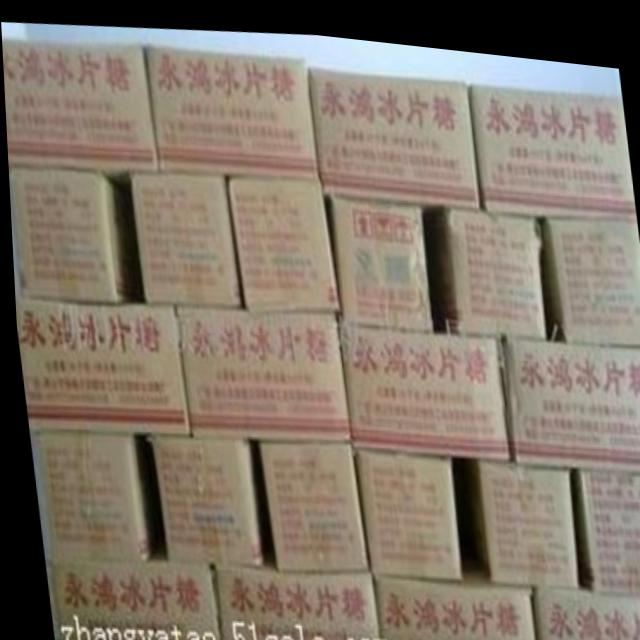box: (307, 61, 478, 198), (144, 41, 318, 175), (334, 315, 505, 450), (467, 71, 635, 208), (172, 301, 346, 432), (12, 300, 187, 430), (2, 37, 157, 167), (495, 324, 640, 457), (7, 165, 124, 302), (33, 429, 146, 561), (128, 168, 238, 302), (226, 171, 336, 304), (433, 196, 543, 329), (45, 554, 215, 640), (145, 431, 256, 559), (256, 431, 362, 565), (351, 438, 457, 571), (210, 556, 374, 640), (466, 448, 572, 576), (328, 188, 430, 320), (369, 560, 530, 640), (540, 204, 640, 332), (566, 455, 640, 582), (527, 569, 640, 640)
